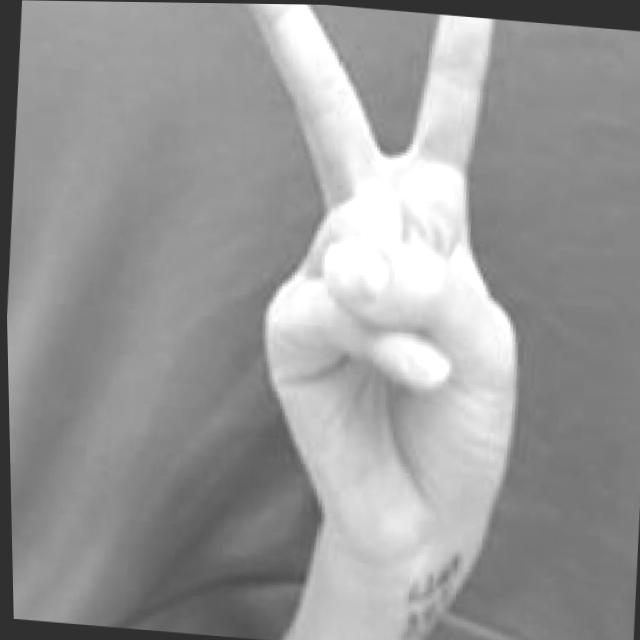V: (192, 3, 548, 576)
